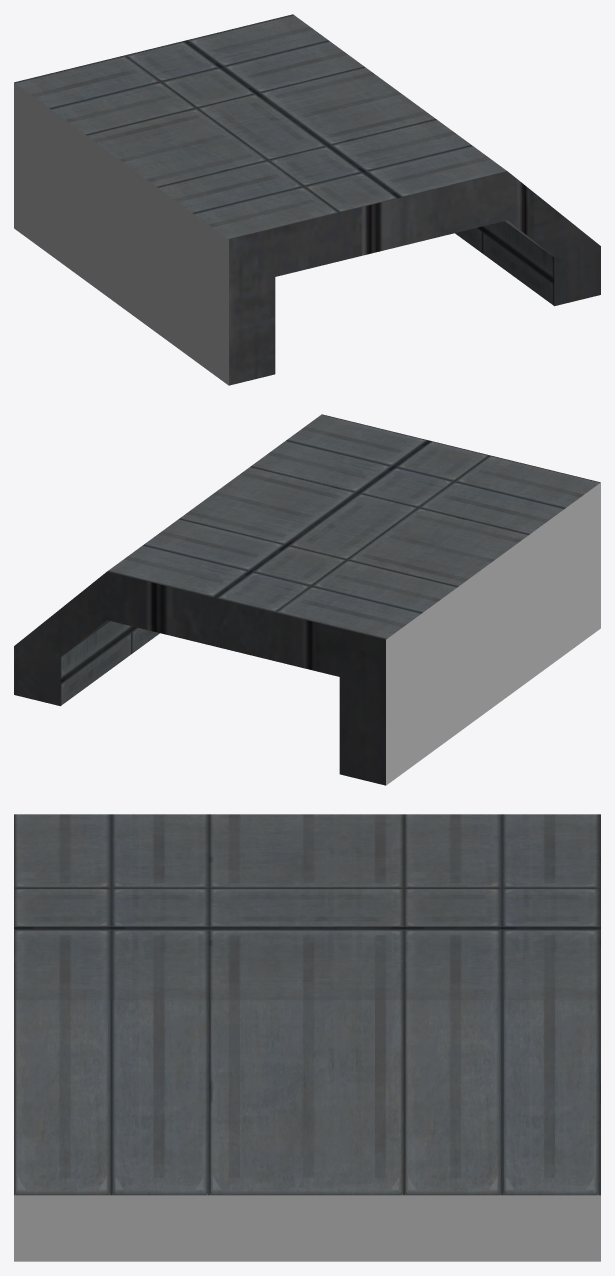
File: Neon_TrailerTop_8x8_01.FBX
3 views of the same model, one above another, from view 1: azimuth 30°, elevation 25°; view 2: azimuth 150°, elevation 25°; view 3: azimuth 270°, elevation 25° (orthographic). The views are drawn at different scales.
Parts seen in each view (by area): view 1: Neon_TrailerTop_8x8_01; view 2: Neon_TrailerTop_8x8_01; view 3: Neon_TrailerTop_8x8_01.
Boxes of the visible parts, bbox=[...] form: Neon_TrailerTop_8x8_01: bbox=[14, 14, 600, 385]; Neon_TrailerTop_8x8_01: bbox=[14, 414, 600, 785]; Neon_TrailerTop_8x8_01: bbox=[14, 814, 600, 1261].
Bounding box in the file's own units: 8 × 3 × 8.
